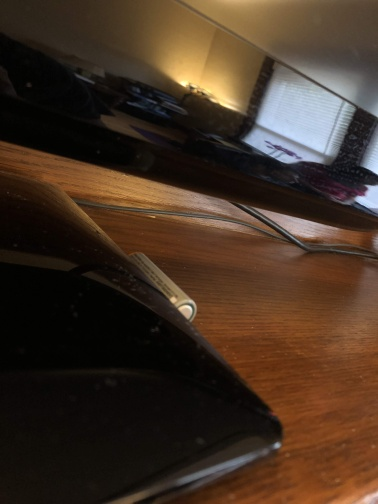battery: (122, 249, 199, 325)
